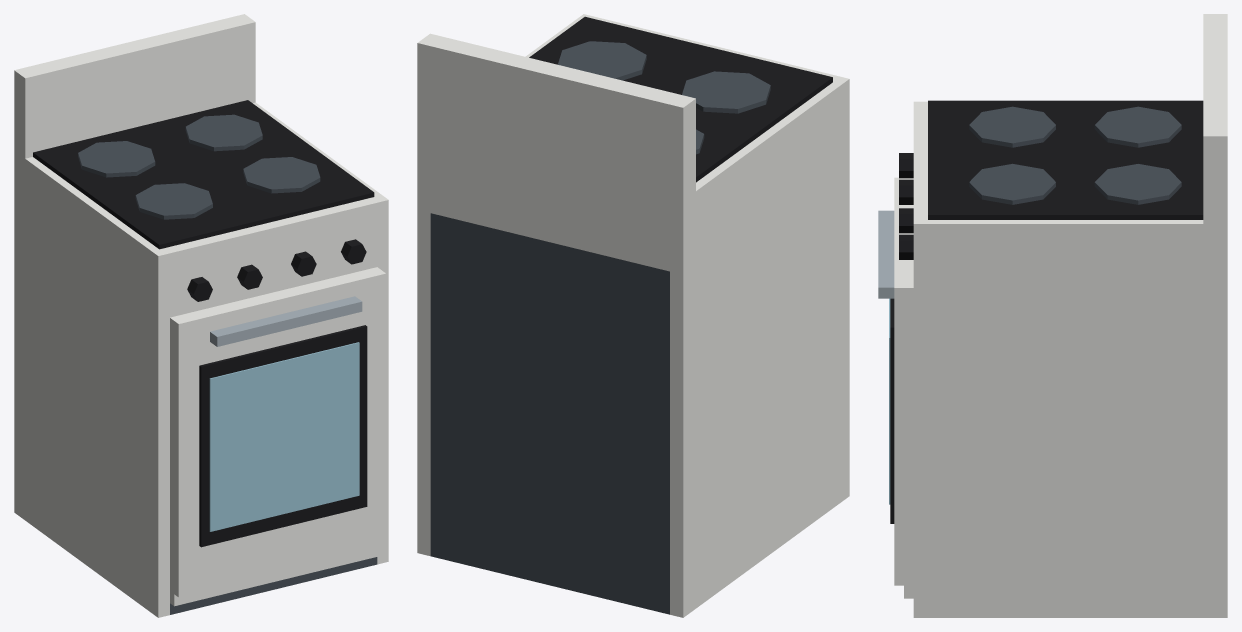
The model's file is GI_Stove_01.glb.
3 views of the same model, side by side, from view 1: azimuth 30°, elevation 25°; view 2: azimuth 150°, elevation 25°; view 3: azimuth 270°, elevation 25° (orthographic). The views are drawn at different scales.
Parts seen in each view (by area): view 1: GI_Stove_01, Door; view 2: GI_Stove_01; view 3: GI_Stove_01, Door.
Part boxes in pixels (box(x1,y1,x2,y2)): GI_Stove_01: box(14, 14, 388, 617); Door: box(170, 267, 386, 597); GI_Stove_01: box(417, 14, 849, 617); GI_Stove_01: box(899, 14, 1227, 617); Door: box(878, 177, 913, 585).
Size of the model in its own units: 0.6 by 1.1 by 0.723.
1 material, 1 textured.
